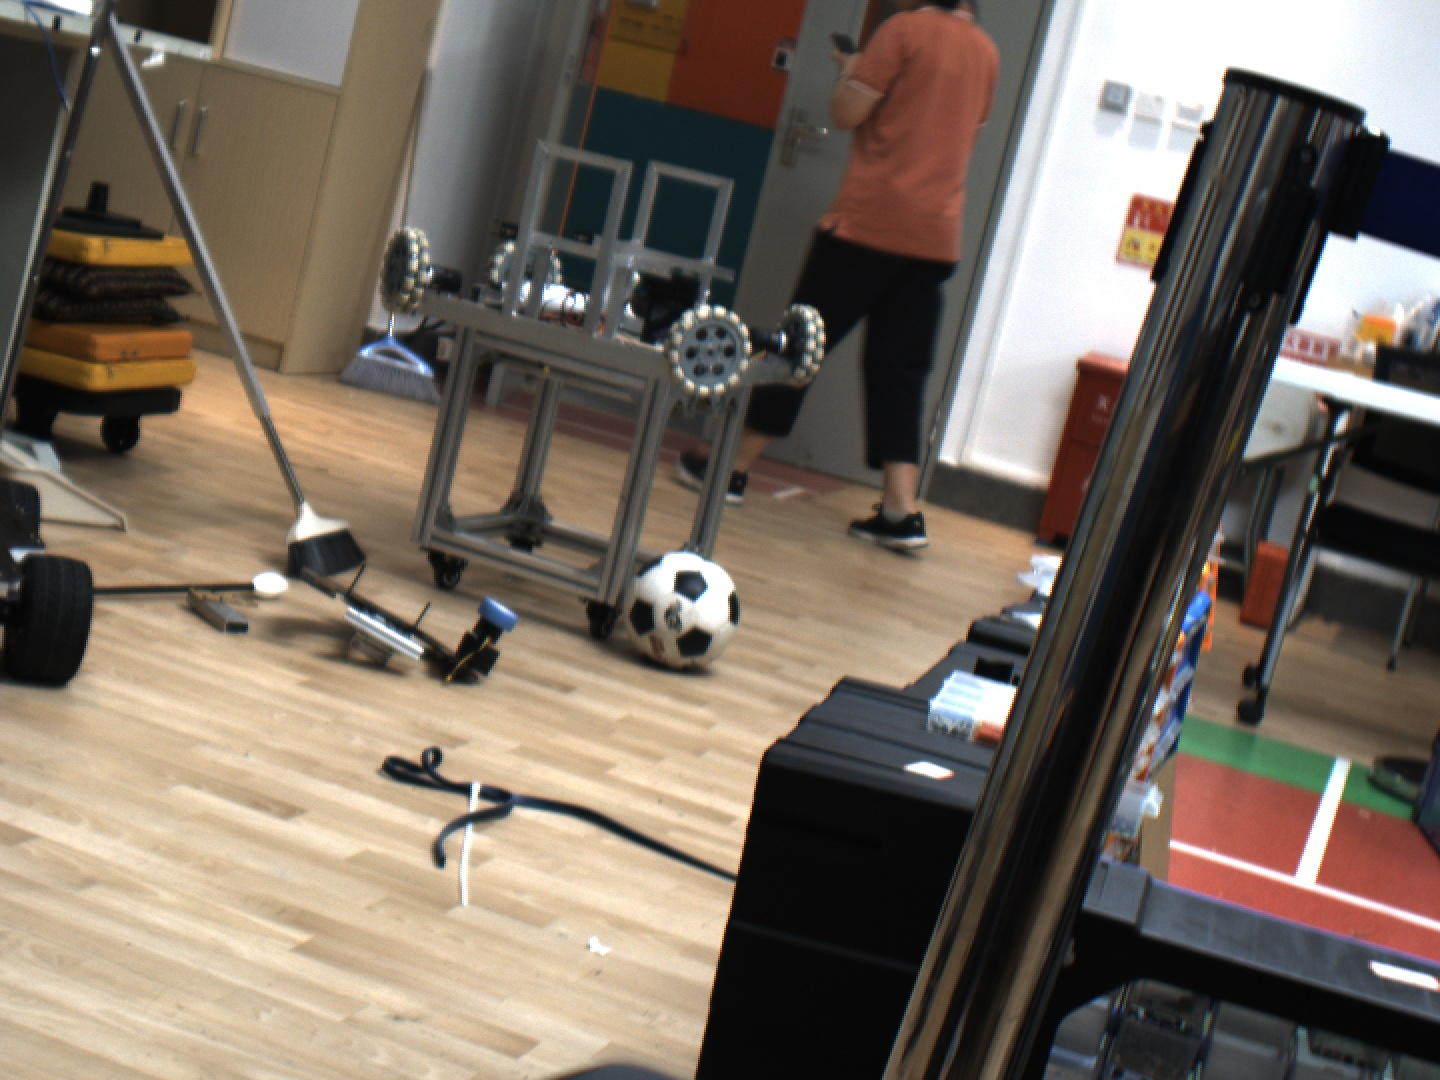ball: (604, 542, 760, 685)
